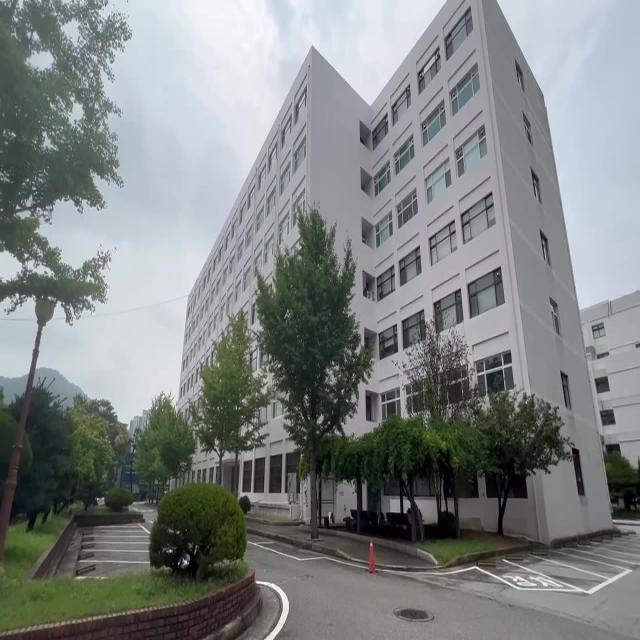building: (358, 18, 588, 354)
